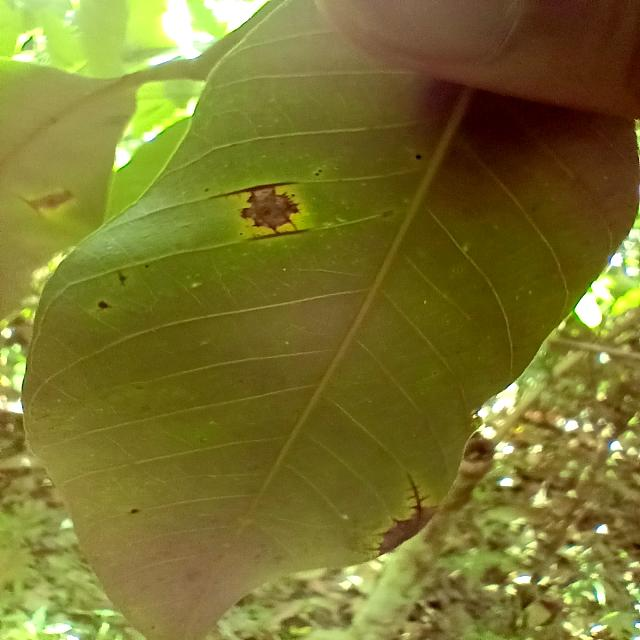Colletotrichum: (98, 302, 109, 310), (415, 154, 422, 160)
Corynespora: (210, 180, 297, 200), (407, 474, 429, 515), (247, 229, 308, 241)
Leaf-Blight: (378, 507, 438, 556), (240, 189, 302, 230)
